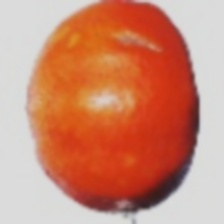tangerine: (65, 13, 200, 206)
